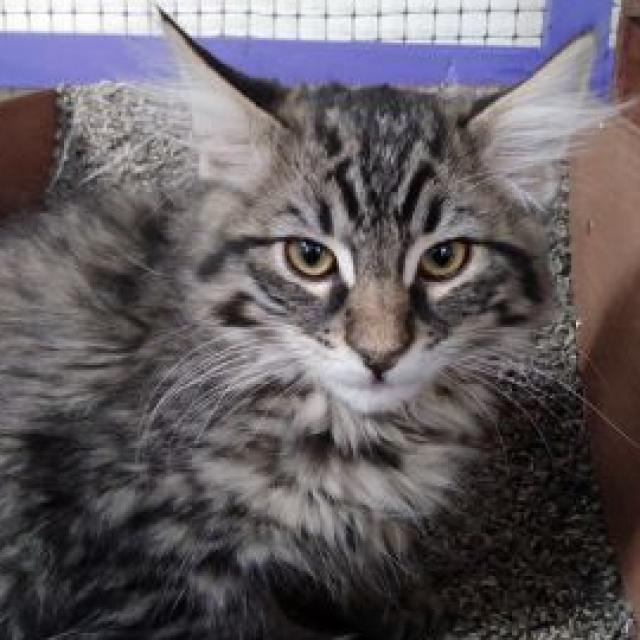Maine Coon: (0, 2, 600, 640)
